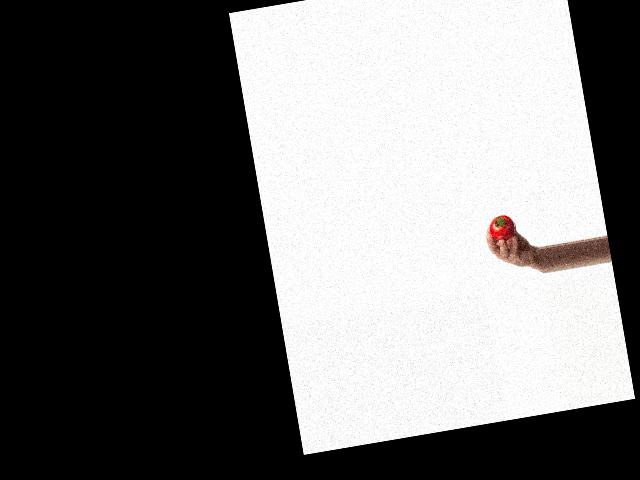tomato: (488, 213, 517, 242)
